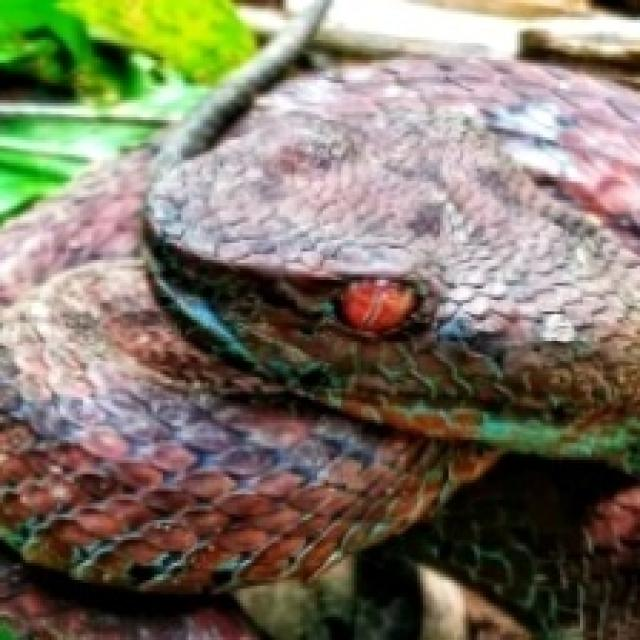philippine pitviper: (0, 9, 637, 637)
